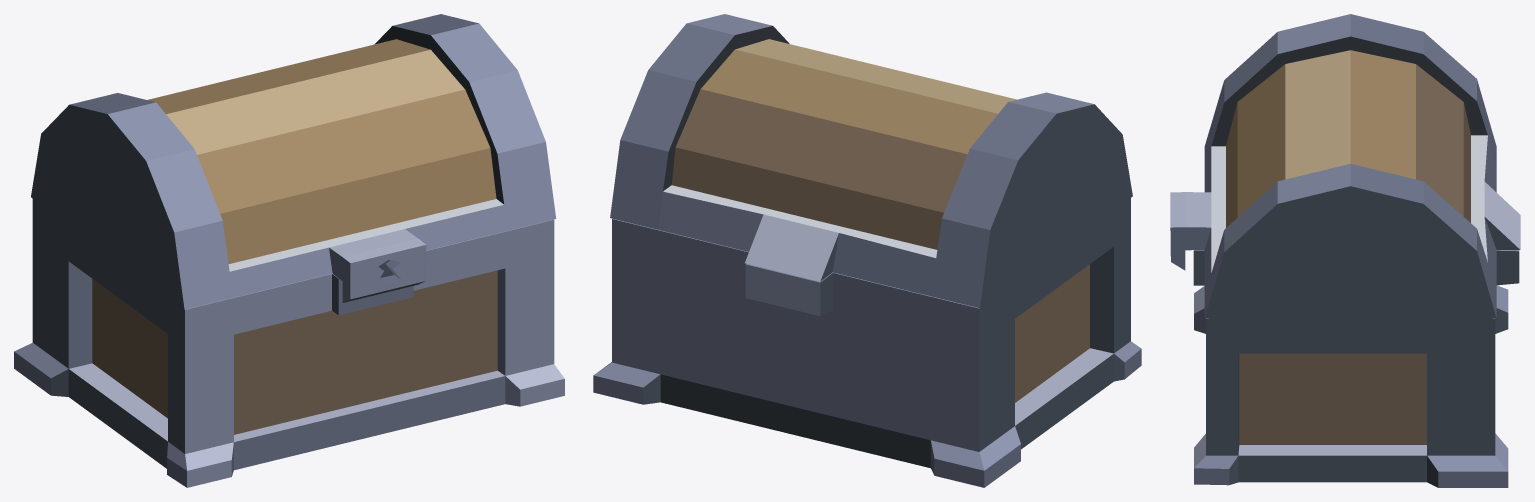
Rendered from Chest.fbx.
3 views of the same model, side by side, from view 1: azimuth 30°, elevation 25°; view 2: azimuth 150°, elevation 25°; view 3: azimuth 270°, elevation 25° (orthographic). The views are drawn at different scales.
Visible parts, largest first — view 1: Cylinder, Cube; view 2: Cylinder, Cube; view 3: Cylinder, Cube.
Part boxes in pixels (x1=…): Cylinder: x1=31, y1=14, x2=556, y2=309; Cube: x1=14, y1=199, x2=564, y2=487; Cylinder: x1=610, y1=14, x2=1132, y2=308; Cube: x1=593, y1=198, x2=1141, y2=487; Cylinder: x1=1170, y1=14, x2=1520, y2=319; Cube: x1=1193, y1=250, x2=1519, y2=487.
Size of the model in its own units: 443 by 337 by 360.
